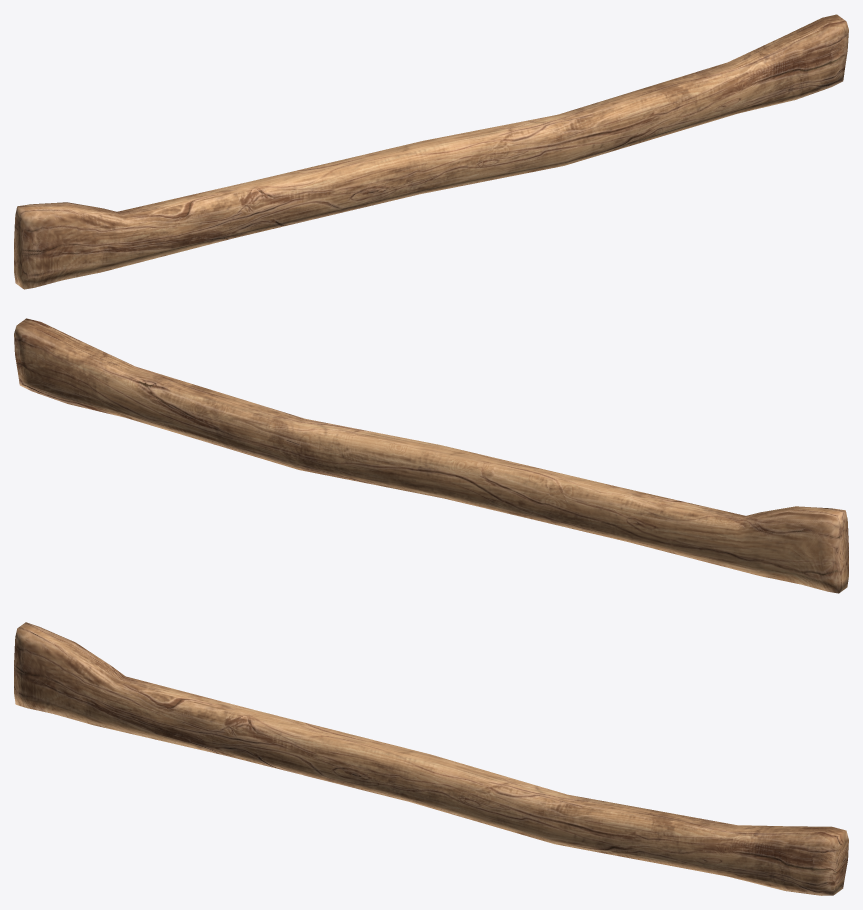
Rendered from SM_BigBeam.fbx.
The picture shows the model from 3 angles, top to bottom: view 1: azimuth 30°, elevation 25°; view 2: azimuth 150°, elevation 25°; view 3: azimuth 330°, elevation 25°; orthographic projection.
Visible parts, largest first — view 1: SM_BigBeam_LOD0; view 2: SM_BigBeam_LOD0; view 3: SM_BigBeam_LOD0.
Boxes of the visible parts, x1,y1,x2,y2 form: SM_BigBeam_LOD0: [14, 14, 848, 289]; SM_BigBeam_LOD0: [14, 318, 848, 593]; SM_BigBeam_LOD0: [14, 622, 848, 895].
Bounding box in the file's own units: 2088 × 83.23 × 203.
1 material, 1 textured.
